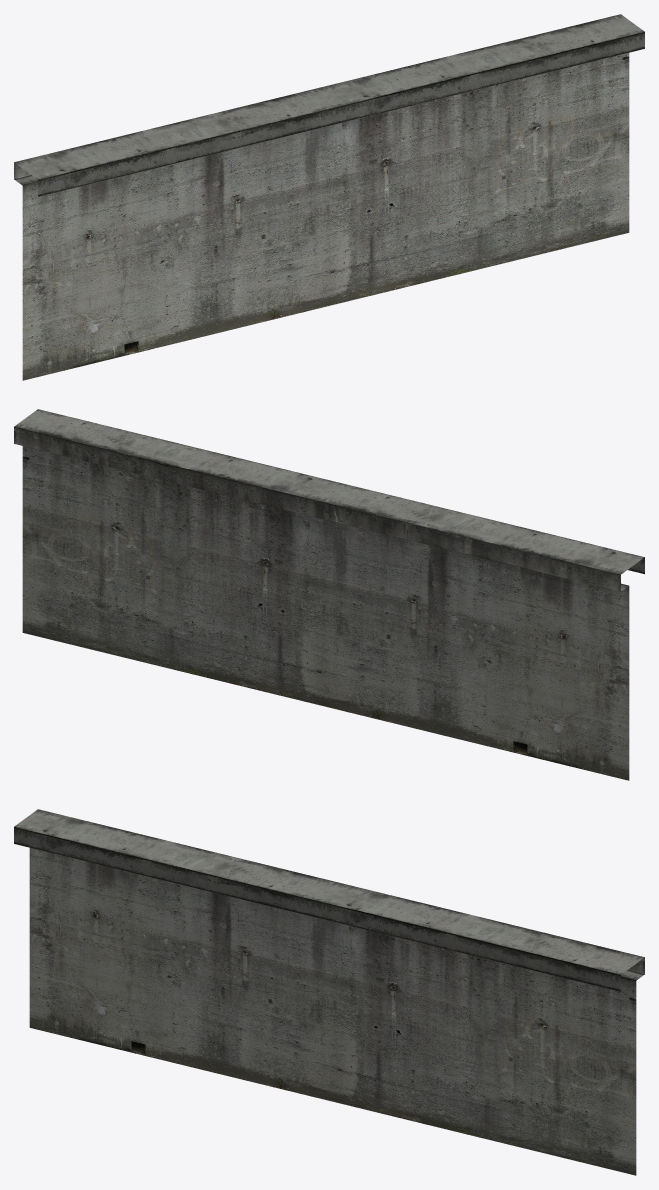
Rendered from UNIConcrete_wall_v1_W_tile_2.glb.
3 renders of one model, top to bottom at view 1: azimuth 30°, elevation 25°; view 2: azimuth 150°, elevation 25°; view 3: azimuth 330°, elevation 25°, orthographic.
Visible parts, largest first — view 1: UNIConcrete_wall_v1_W_tile_2; view 2: UNIConcrete_wall_v1_W_tile_2; view 3: UNIConcrete_wall_v1_W_tile_2.
Boxes of the visible parts, x1,y1,x2,y2 form: UNIConcrete_wall_v1_W_tile_2: [14, 14, 644, 380]; UNIConcrete_wall_v1_W_tile_2: [14, 409, 644, 780]; UNIConcrete_wall_v1_W_tile_2: [14, 809, 644, 1175].
Bounding box in the file's own units: 5 × 1.67 × 0.3428.
1 material, 1 textured.
